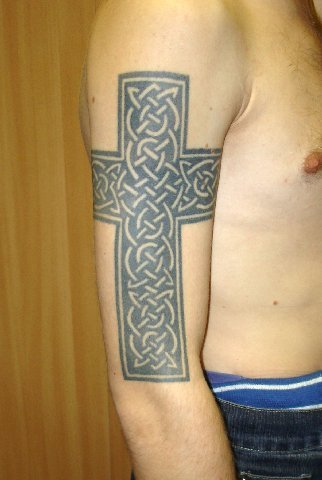tatu9_krest: (94, 65, 215, 381)
